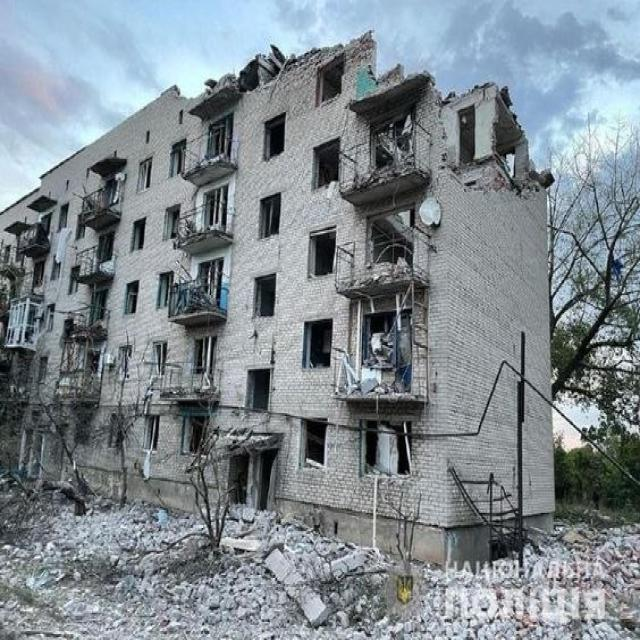broken_window: (361, 419, 411, 478), (302, 316, 332, 369), (307, 226, 336, 278), (312, 136, 340, 189), (302, 418, 327, 469), (262, 110, 285, 160), (458, 103, 476, 165)
building: (1, 28, 557, 570)
